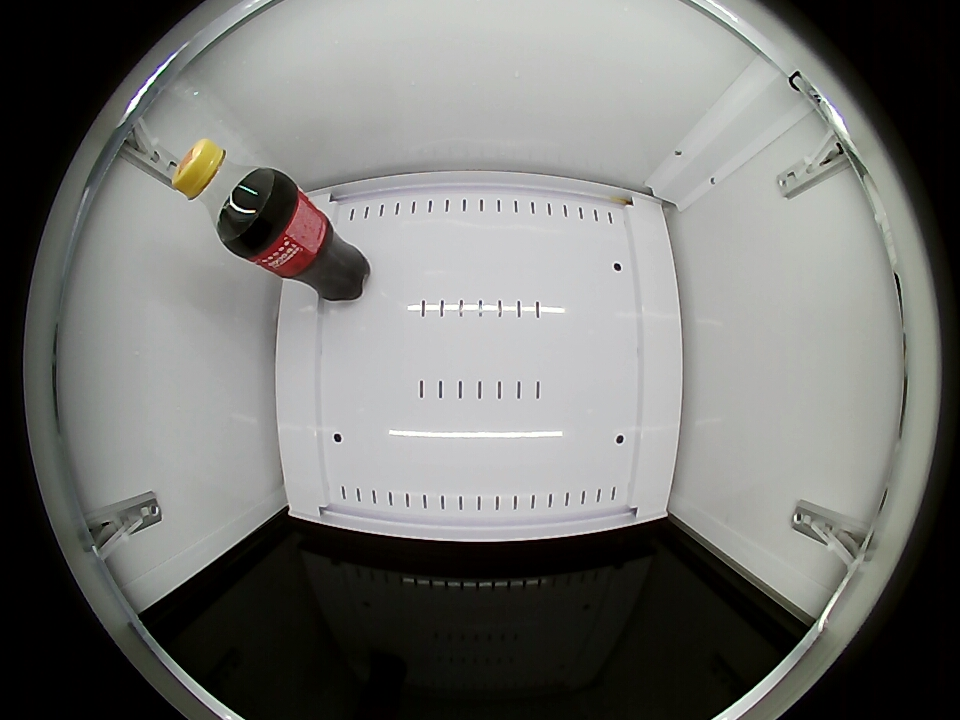kele-b-2: (172, 139, 277, 243)
